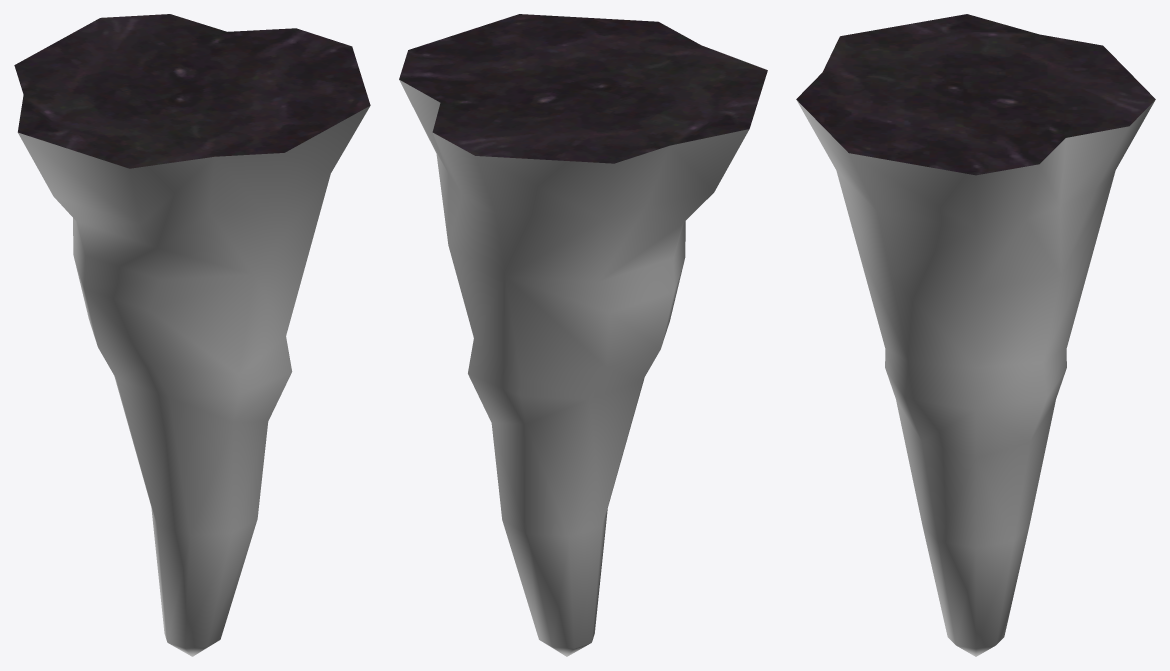
File: cave_stalactite_06.fbx
The picture shows the model from 3 angles, left to right: view 1: azimuth 30°, elevation 25°; view 2: azimuth 150°, elevation 25°; view 3: azimuth 270°, elevation 25°; orthographic projection. The views are drawn at different scales.
Visible parts, largest first — view 1: cave_stalactite_06-0; view 2: cave_stalactite_06-0; view 3: cave_stalactite_06-0.
Part boxes in pixels (left/top/right/bottom): cave_stalactite_06-0: left=14, top=14, right=370, bottom=656; cave_stalactite_06-0: left=399, top=14, right=767, bottom=656; cave_stalactite_06-0: left=796, top=14, right=1155, bottom=656.
Bounding box in the file's own units: 1.93 × 3.1 × 1.82.
